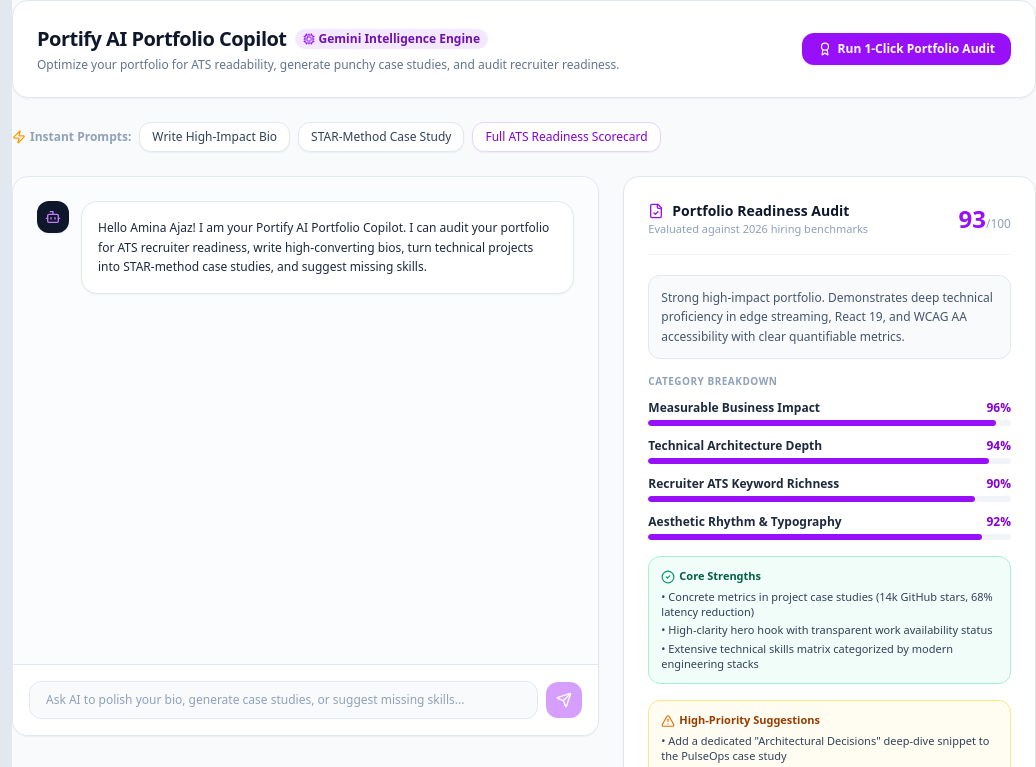
Test: AI Copilot & Chat Message Renderer › shows loading indicator and pending state when user submits a message
This screenshot has width=1036, height=767.
Type "Analyze my skills" into the field with placeholder "Ask AI to polish your bio" at (284, 700), box [29,681,538,719]
Then press Enter
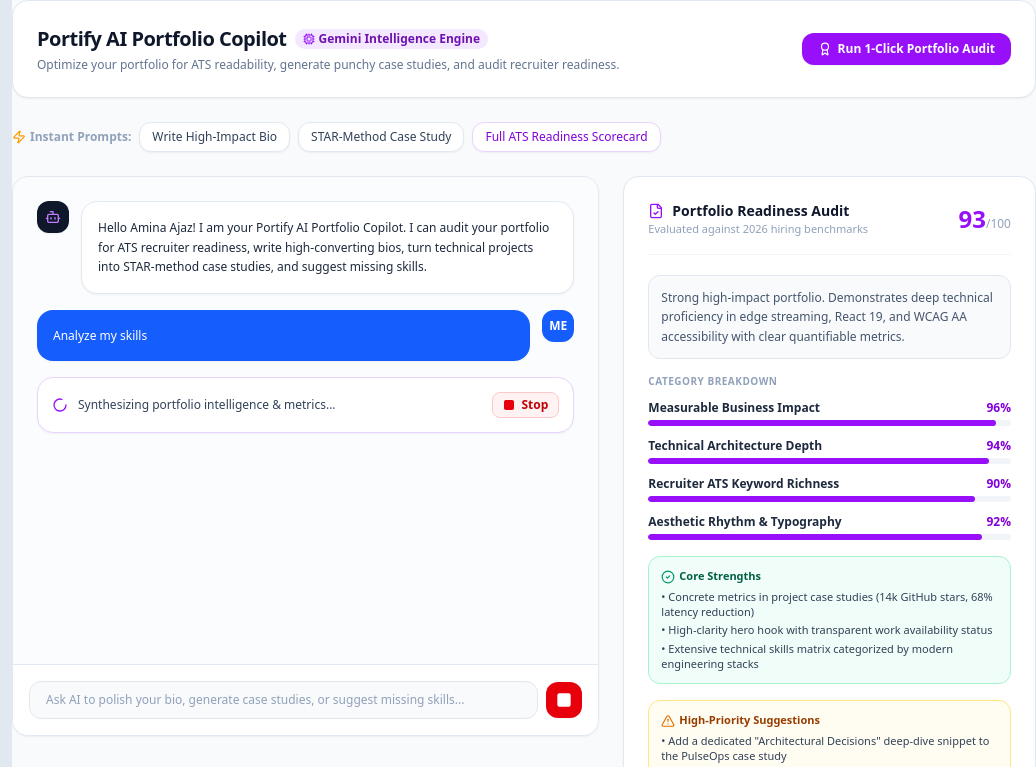
Result: the text "Synthesizing portfolio intelligence & metrics..." is shown at [78,397,336,413]
